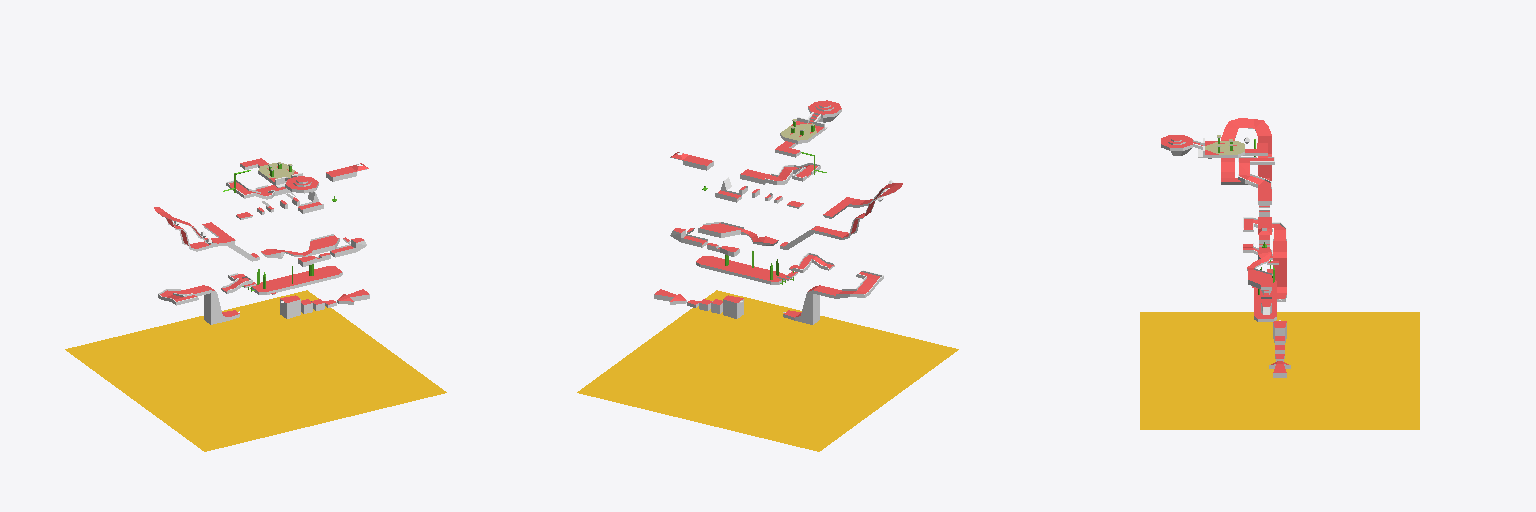
The model's file is Bowser Third Course Area 1.obj.
3 views of the same model, side by side, from view 1: azimuth 30°, elevation 25°; view 2: azimuth 150°, elevation 25°; view 3: azimuth 270°, elevation 25° (orthographic).
Bounding box in the file's own units: 32766 × 29686 × 32766.